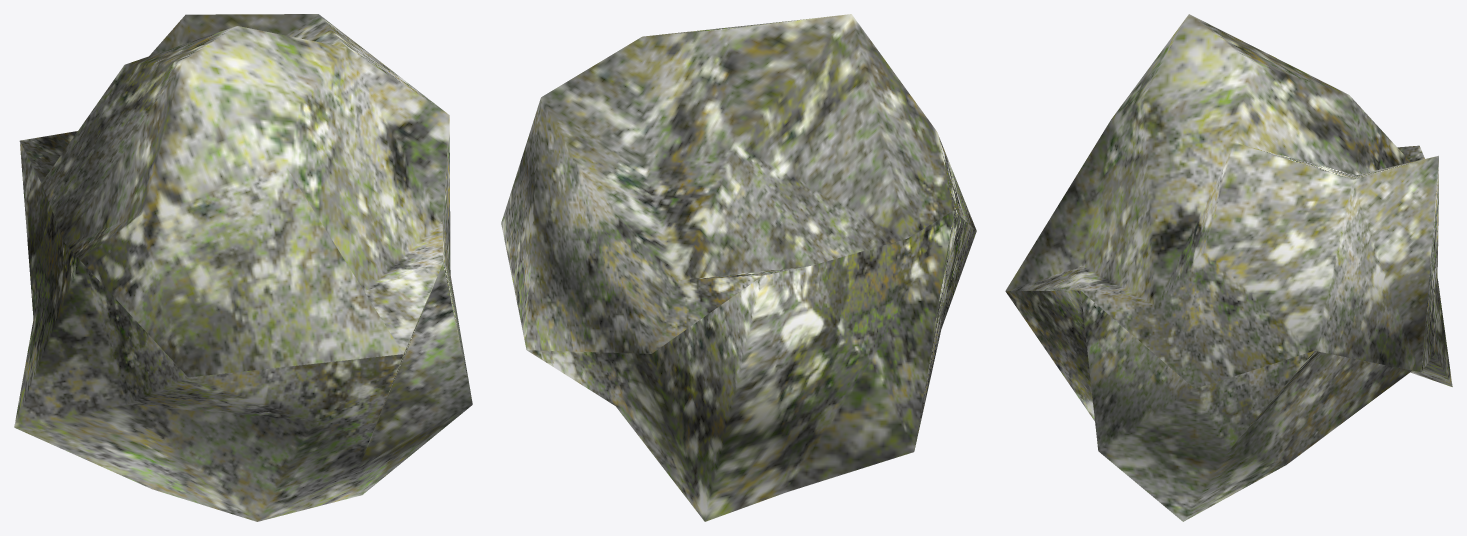
The model's file is Rock1.dae.
The picture shows the model from 3 angles, left to right: view 1: azimuth 30°, elevation 25°; view 2: azimuth 150°, elevation 25°; view 3: azimuth 270°, elevation 25°; orthographic projection. The views are drawn at different scales.
Visible parts, largest first — view 1: Rock; view 2: Rock; view 3: Rock.
Part boxes in pixels (x1=…): Rock: x1=14, y1=14, x2=472, y2=521; Rock: x1=501, y1=14, x2=976, y2=521; Rock: x1=1005, y1=14, x2=1452, y2=521.
Bounding box in the file's own units: 10.11 × 10.71 × 11.37.
Materials: 1 (1 with a texture image).
